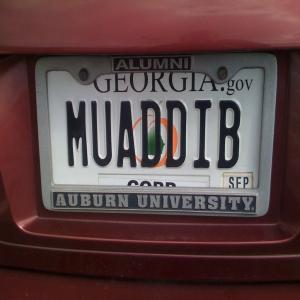Vehicle-registration-plate: (35, 53, 279, 219)
